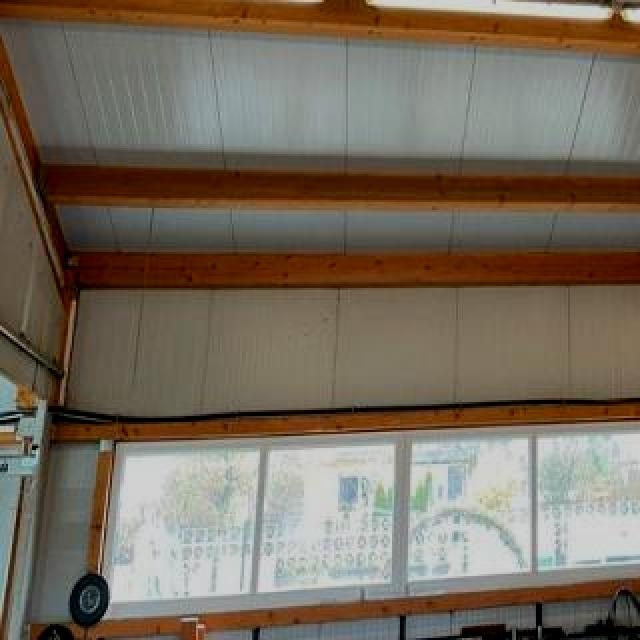fluorescent tube: (18, 0, 334, 34), (350, 0, 618, 38), (612, 0, 640, 52)
